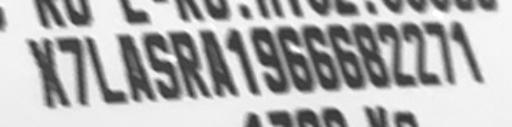letter: (24, 35, 72, 110), (168, 29, 214, 100), (84, 33, 128, 106), (140, 29, 182, 102), (272, 24, 316, 93), (200, 28, 240, 101), (116, 31, 156, 104), (326, 23, 368, 92), (300, 24, 342, 91), (248, 26, 290, 93), (54, 35, 92, 108), (400, 21, 442, 86), (224, 27, 262, 98), (447, 19, 487, 86), (376, 21, 416, 88), (350, 21, 390, 88), (424, 20, 458, 85)
